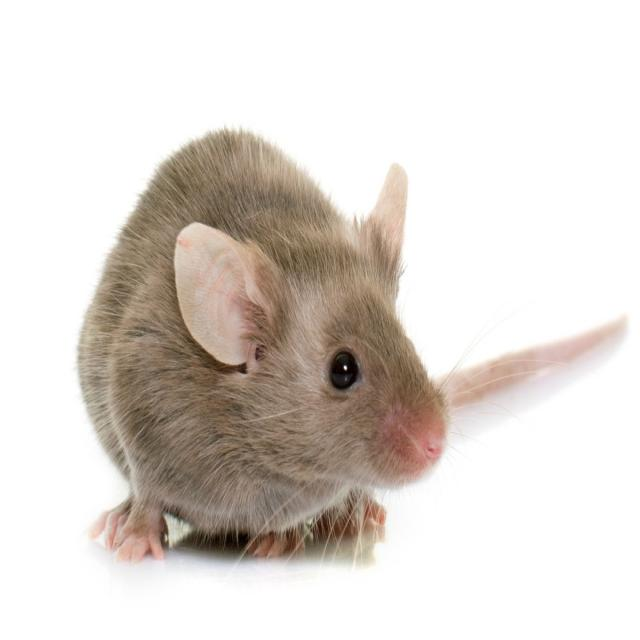Mouse: (72, 126, 637, 553)
